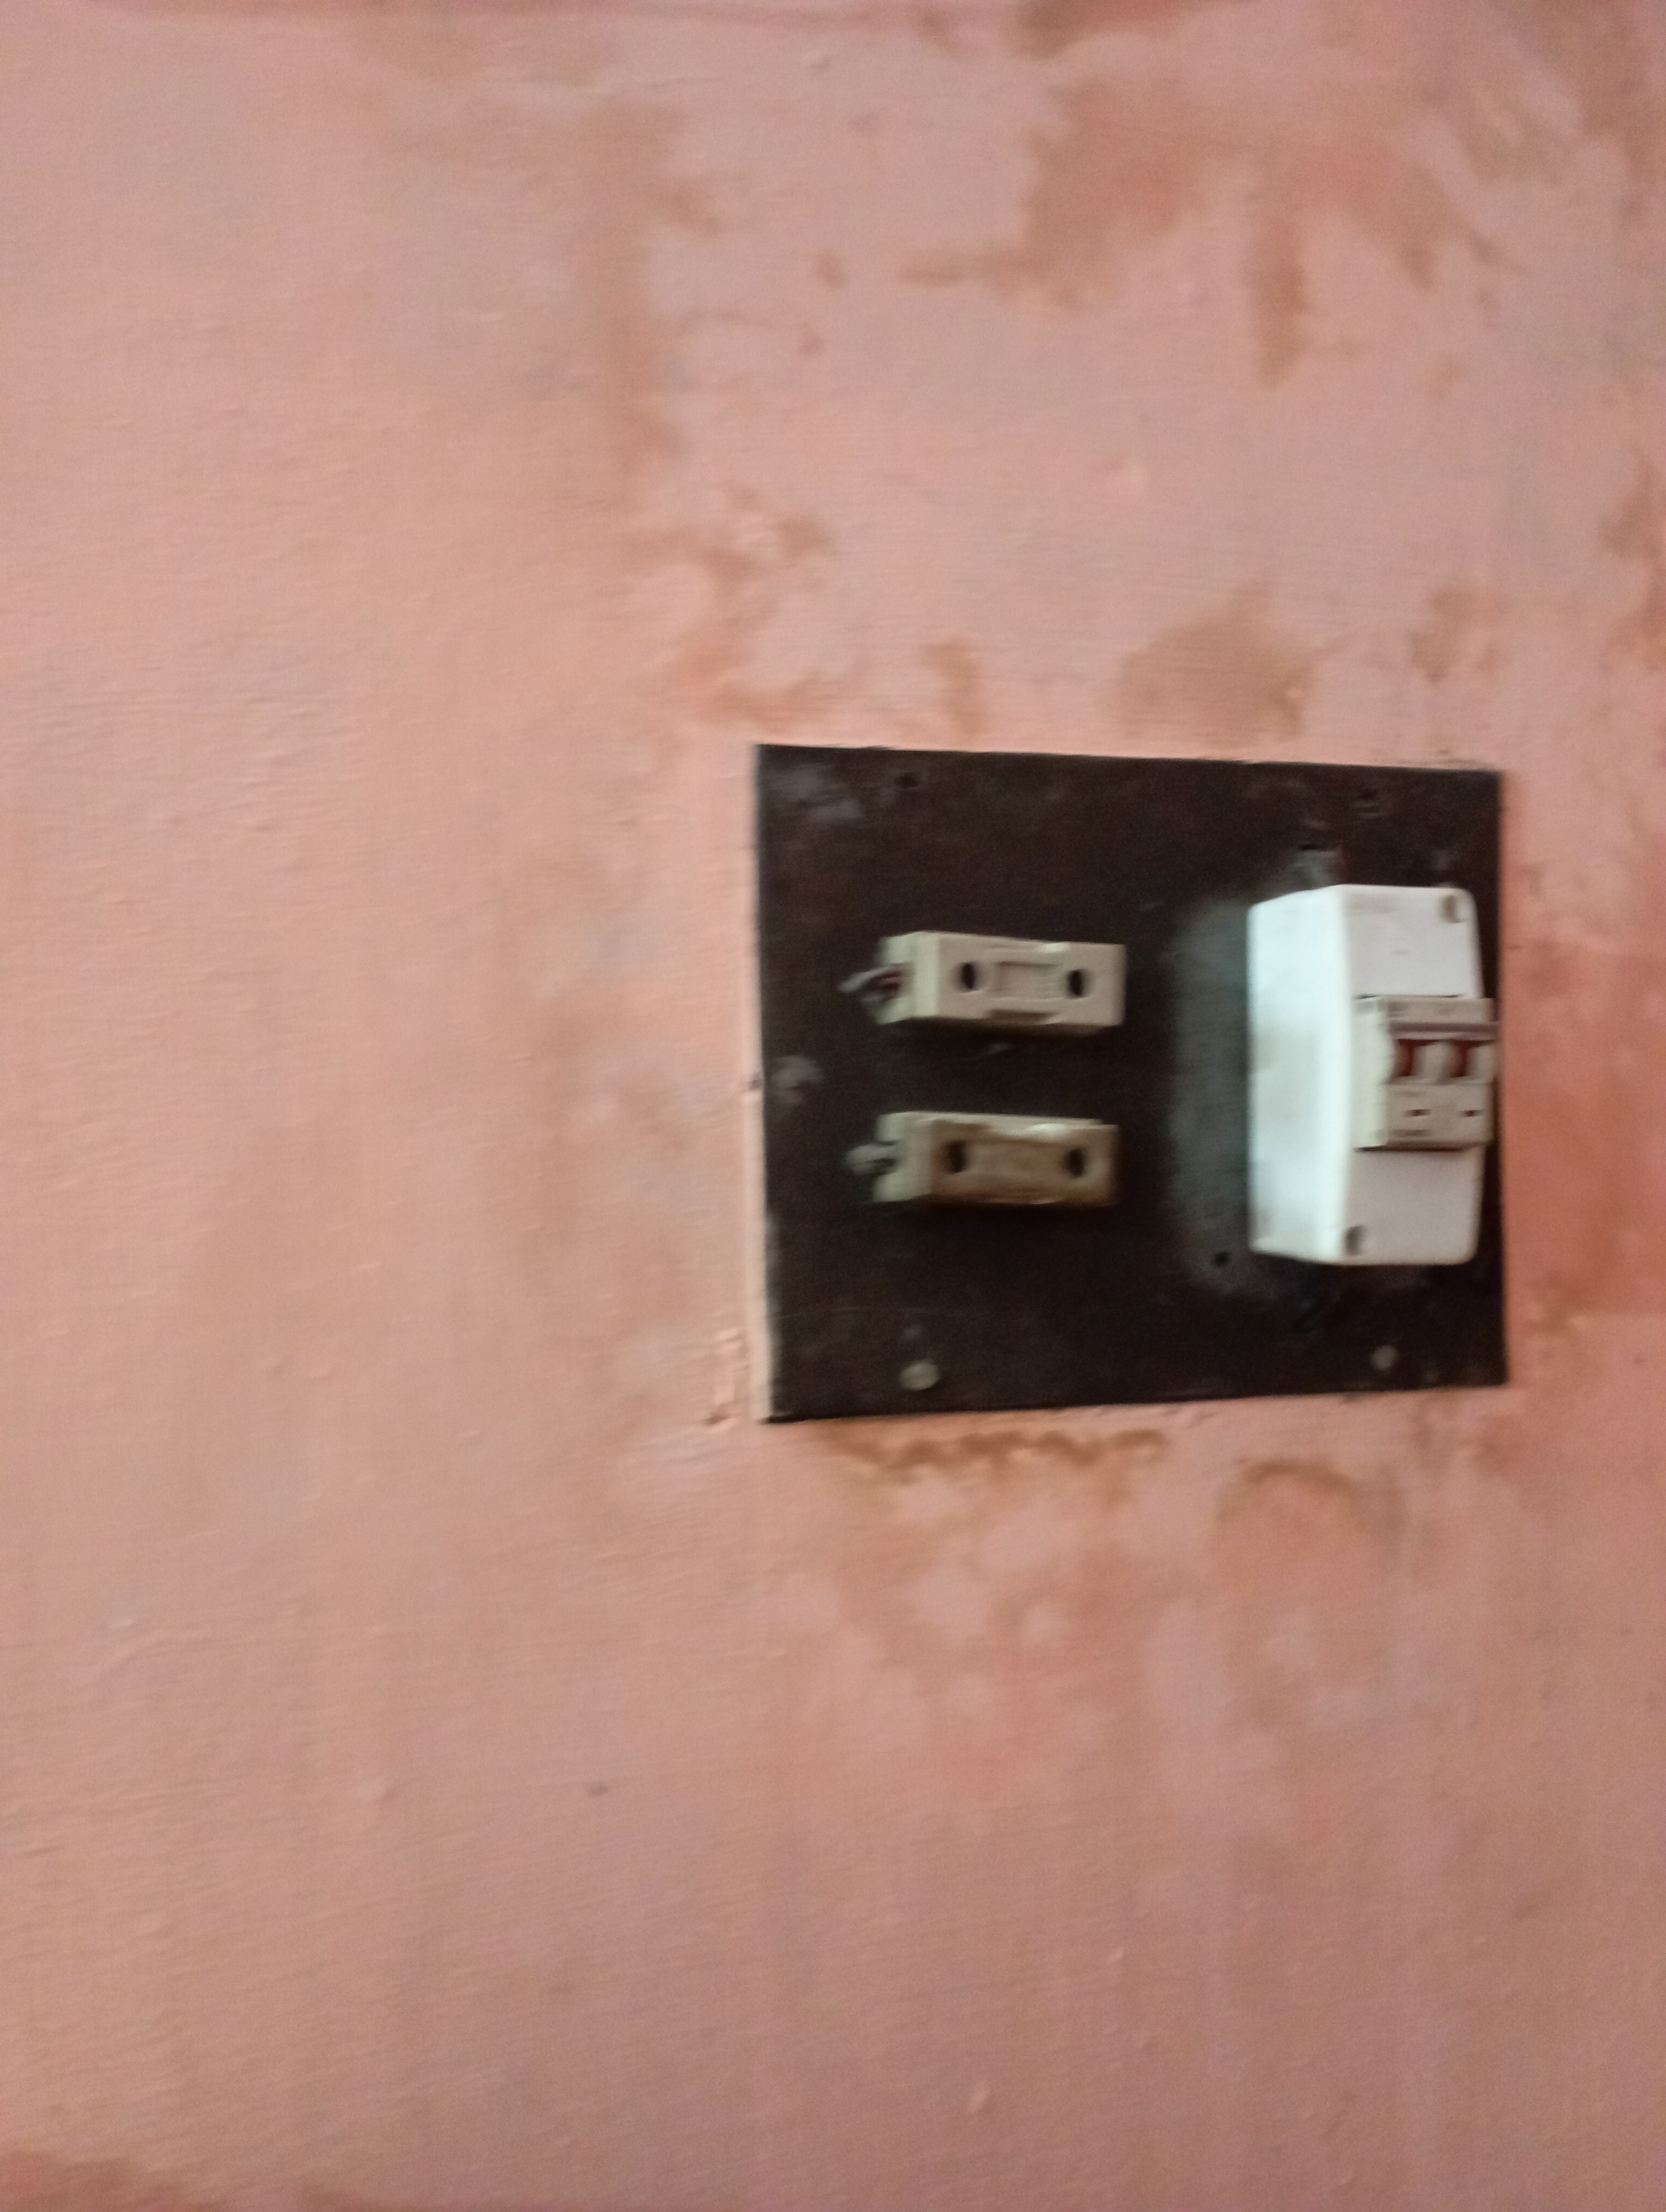ciruit_breaker: (1248, 876, 1503, 1304)
fuse: (824, 899, 1123, 1044), (859, 1093, 1123, 1238)
